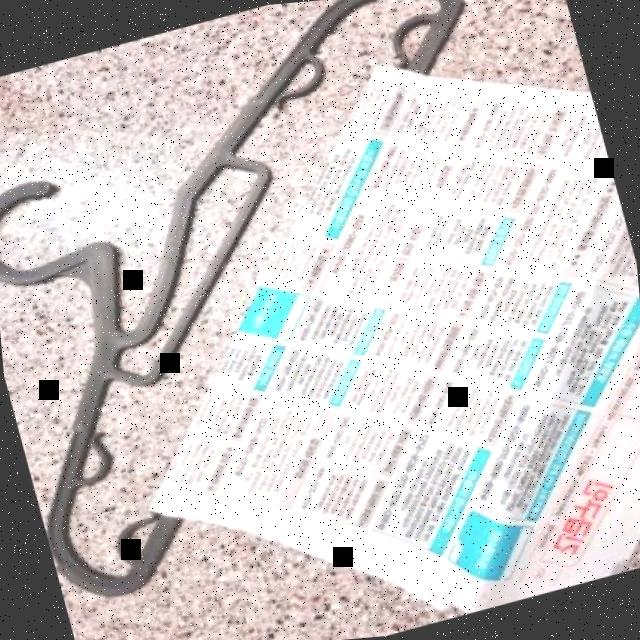reuseable_paper: (61, 25, 640, 640)
